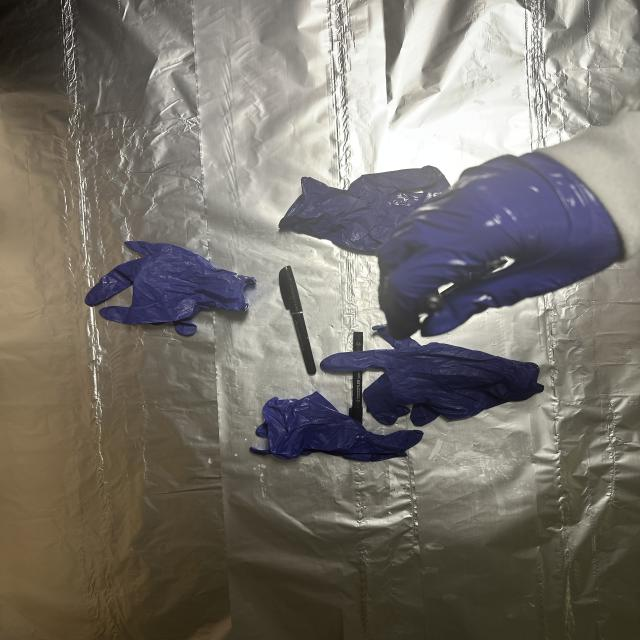gloves_contaminated: (378, 153, 623, 338)
